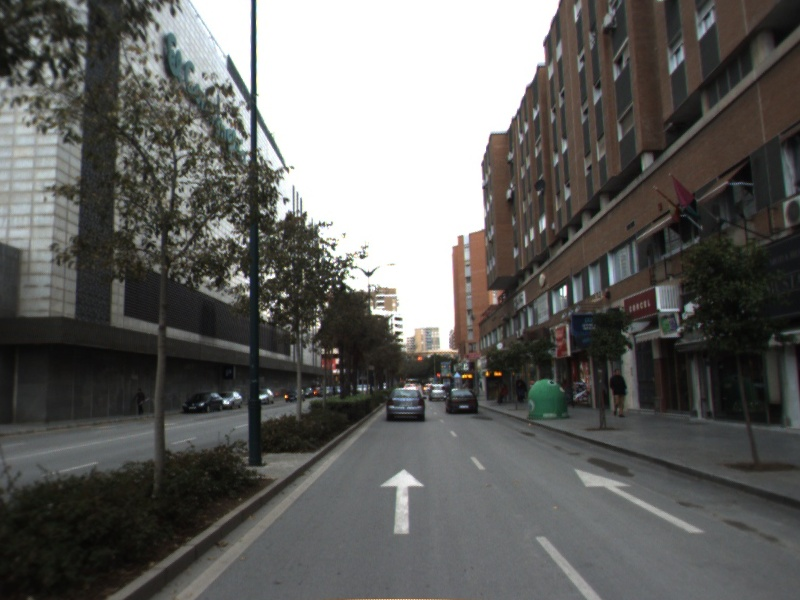STRAIGHT: (572, 466, 706, 535), (378, 467, 427, 536)
